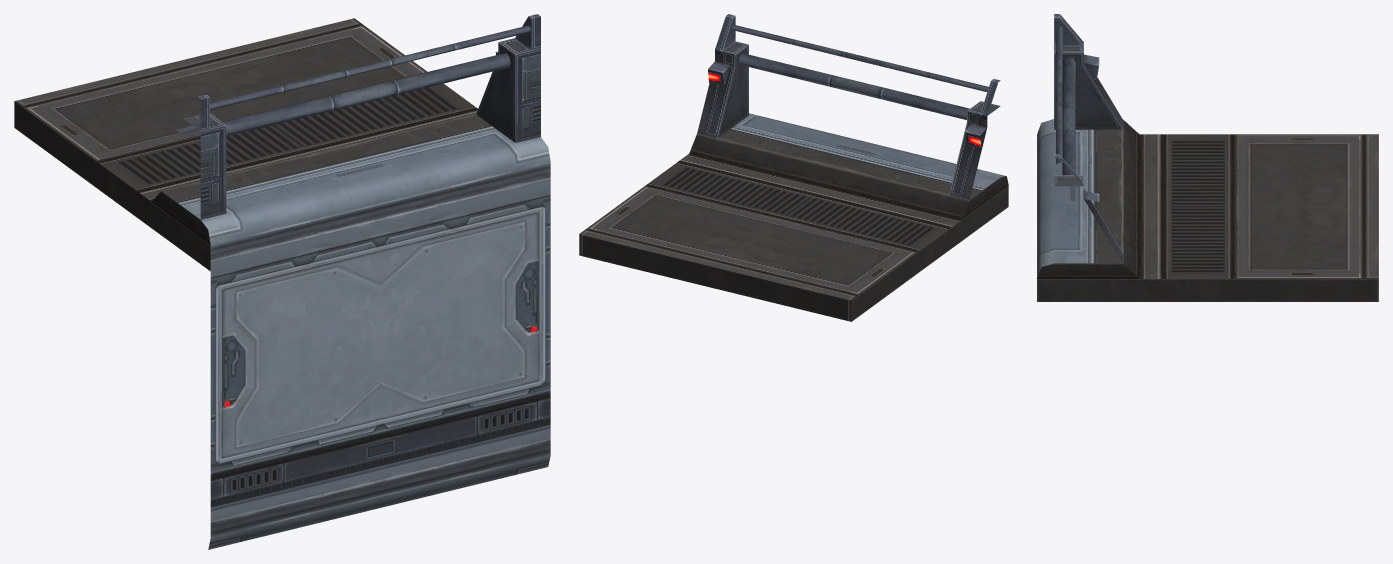
The model's file is all_arch_imp_wallset_h3m_6m.glb.
3 renders of one model, left to right at view 1: azimuth 30°, elevation 25°; view 2: azimuth 150°, elevation 25°; view 3: azimuth 270°, elevation 25°, orthographic. The views are drawn at different scales.
Visible parts, largest first — view 1: all_arch_imp_wallset_h3m_6m; view 2: all_arch_imp_wallset_h3m_6m; view 3: all_arch_imp_wallset_h3m_6m.
Boxes of the visible parts, <box> form: all_arch_imp_wallset_h3m_6m: <box>14,14,550,549</box>; all_arch_imp_wallset_h3m_6m: <box>579,14,1008,321</box>; all_arch_imp_wallset_h3m_6m: <box>1037,14,1378,301</box>.
Size of the model in its own units: 0.4 by 0.5054 by 0.4.
Materials: 2 (2 with a texture image).
